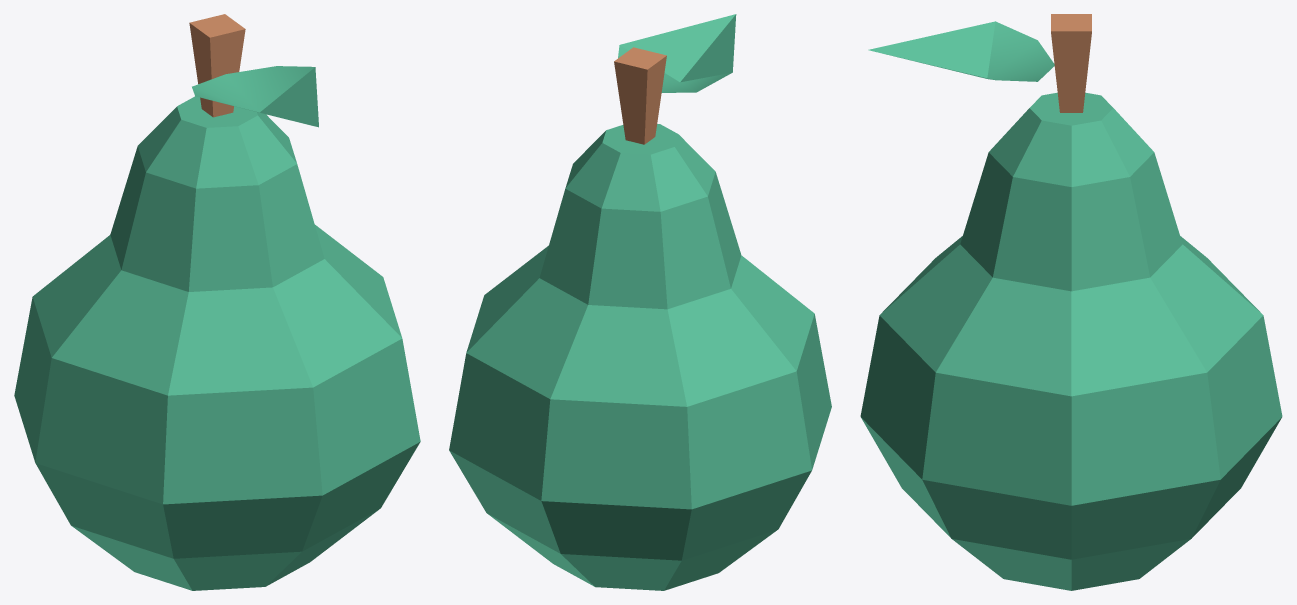
Rendered from pear.obj.
3 renders of one model, left to right at view 1: azimuth 30°, elevation 25°; view 2: azimuth 150°, elevation 25°; view 3: azimuth 270°, elevation 25°, orthographic. The views are drawn at different scales.
Parts seen in each view (by area): view 1: pear; view 2: pear; view 3: pear.
Part boxes in pixels (x1=…): pear: x1=14, y1=14, x2=420, y2=590; pear: x1=449, y1=14, x2=831, y2=590; pear: x1=860, y1=14, x2=1282, y2=590.
Bounding box in the file's own units: 0.1963 × 0.2708 × 0.1963.
